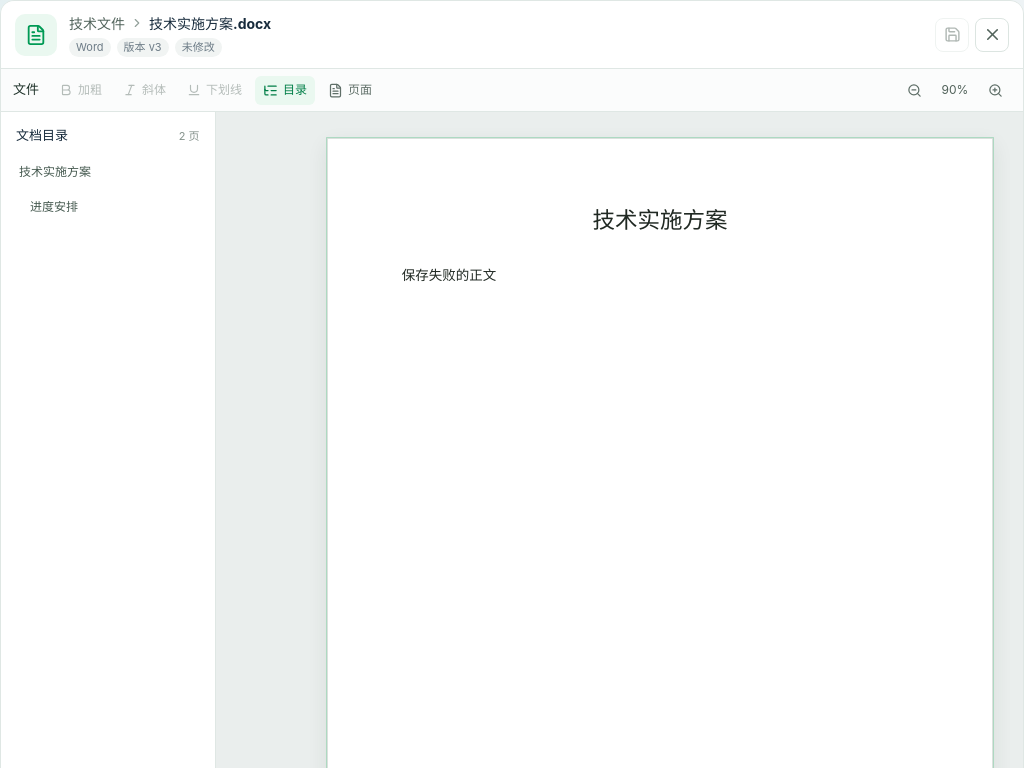
Test: OutcomeFileWorkspace › keeps failed saves dirty and does not report the previous file status to a switched tab
The image size is (1024, 768).
Clear the text box named "正文：本项目采用分阶段实施方案。" at [448, 276], box [401,269,496,283]
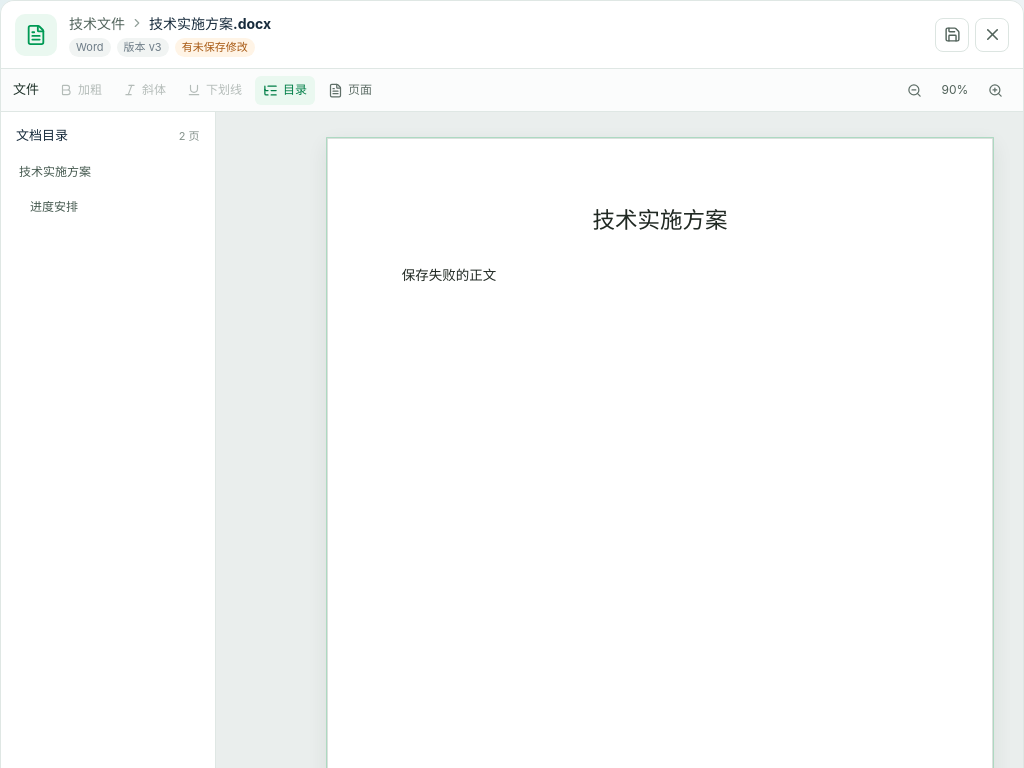
Click the button named "保存文件" at [952, 34], box [935,18,969,52]
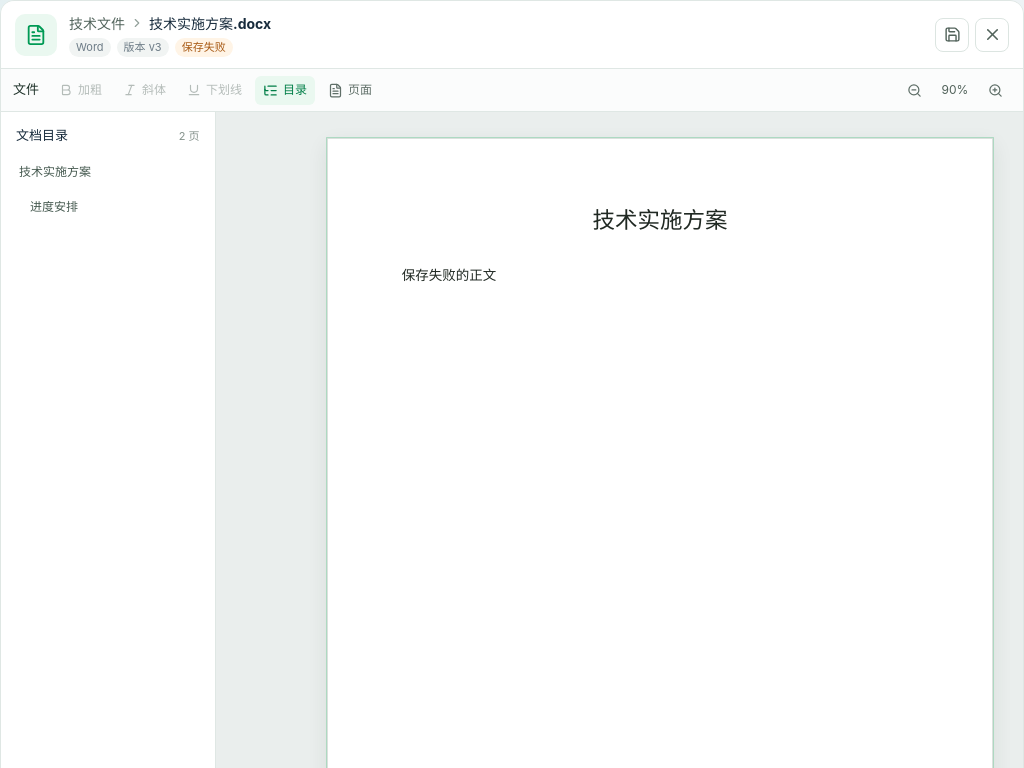
Now the message named "文件保存状态" reads "保存失败", box [182,40,226,54]
